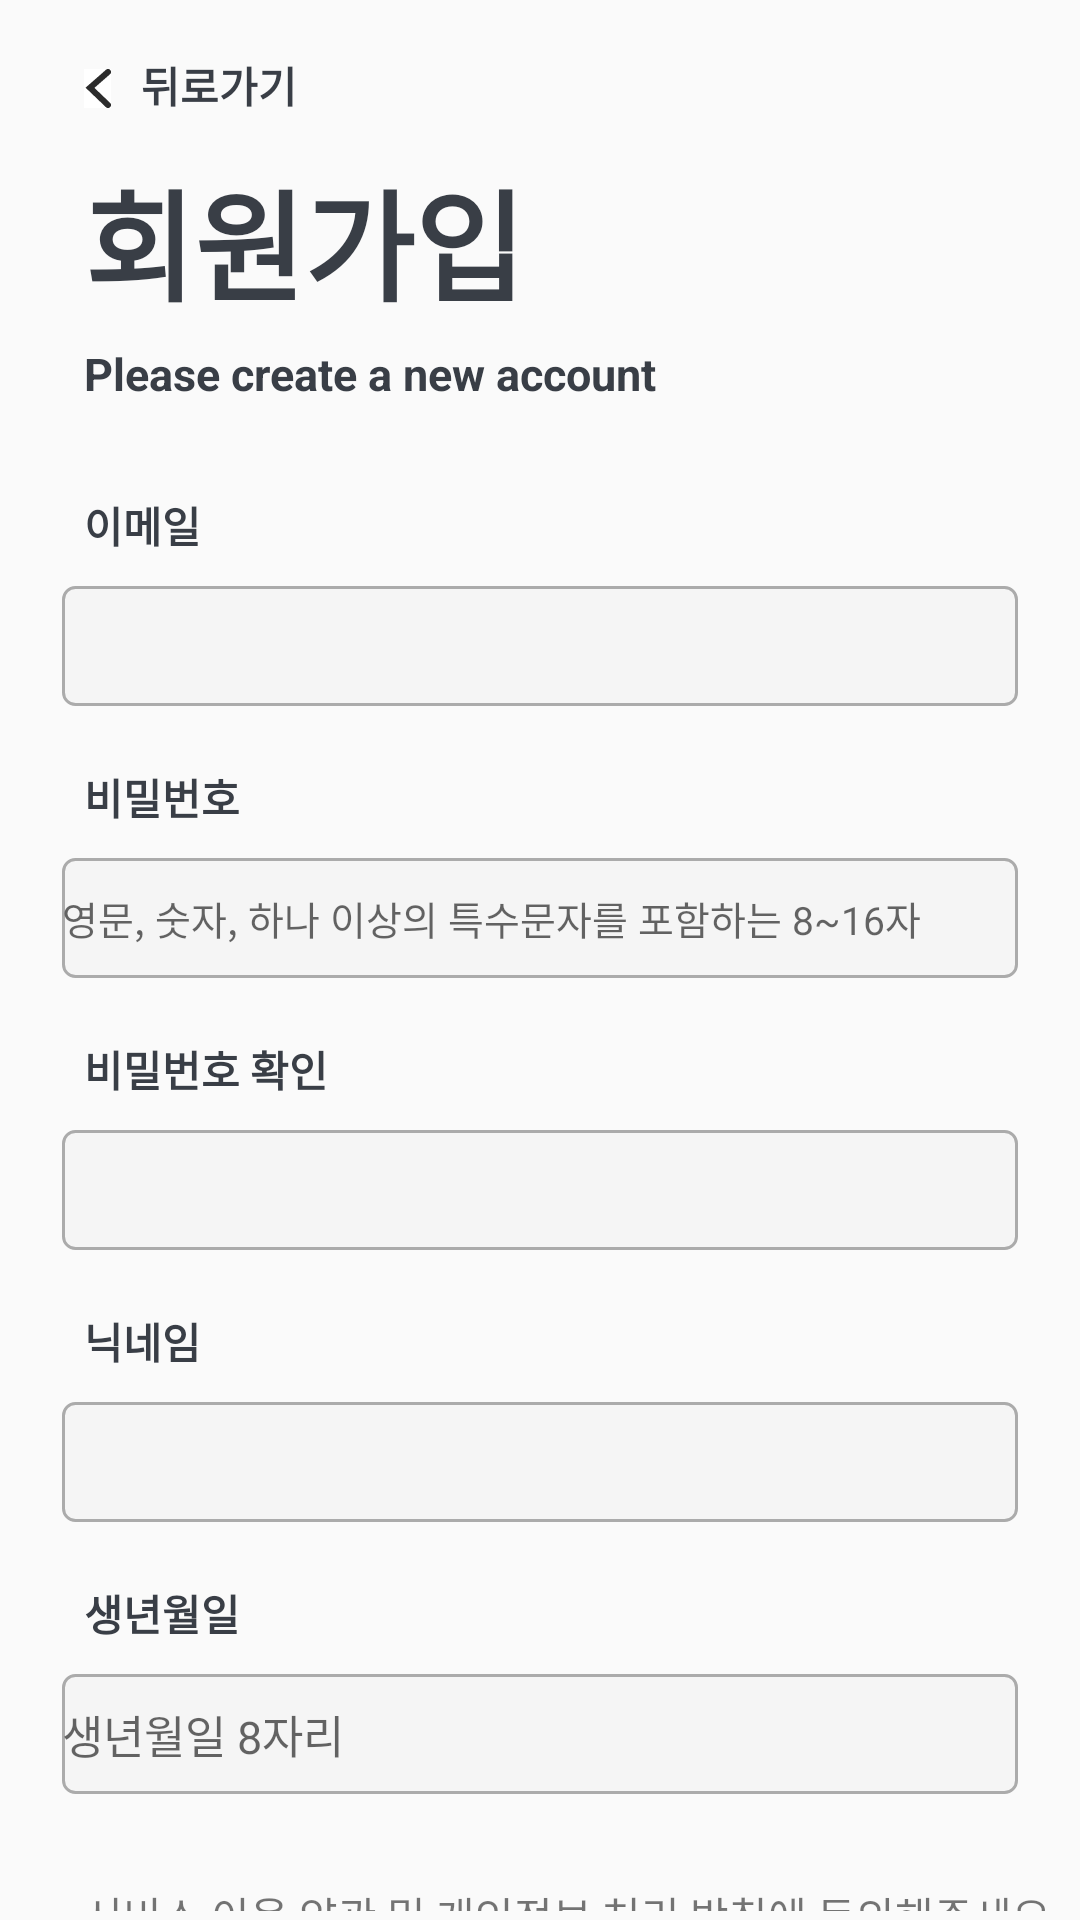

Locate icon controls on the screen. Image size 1080px x 1920px, boxes as (x1, y1, x2, y2).
arrow: (85, 69, 111, 108)
